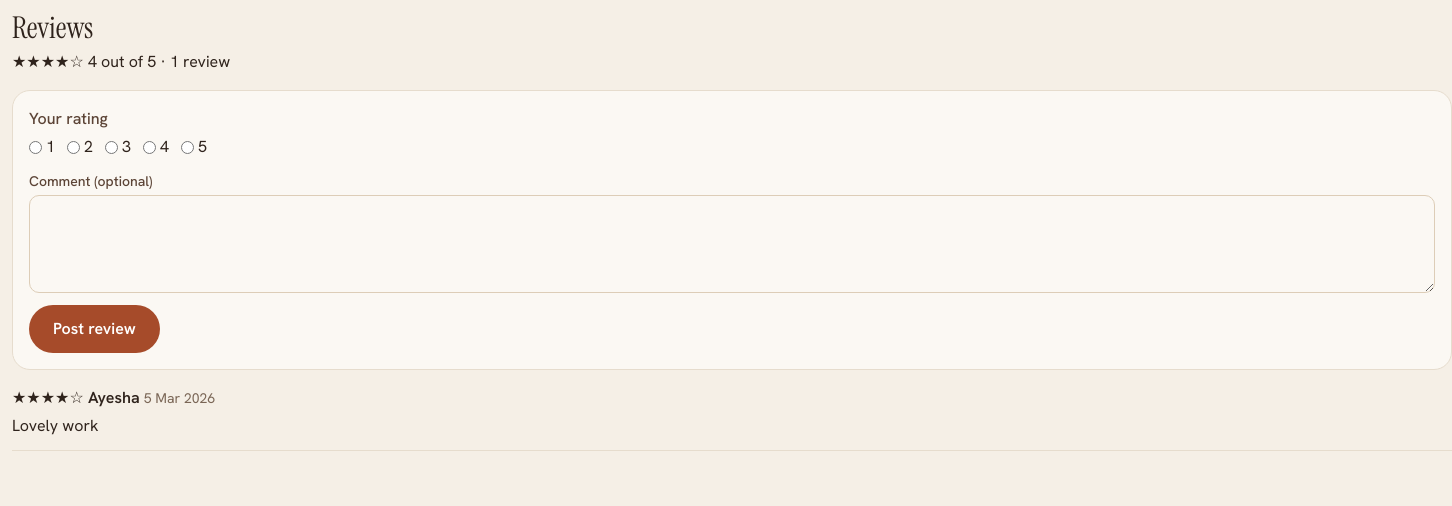
asks for a rating before posting
The image size is (1452, 506).
Click the button "Post review".
click(94, 329)  # box [29, 305, 160, 353]
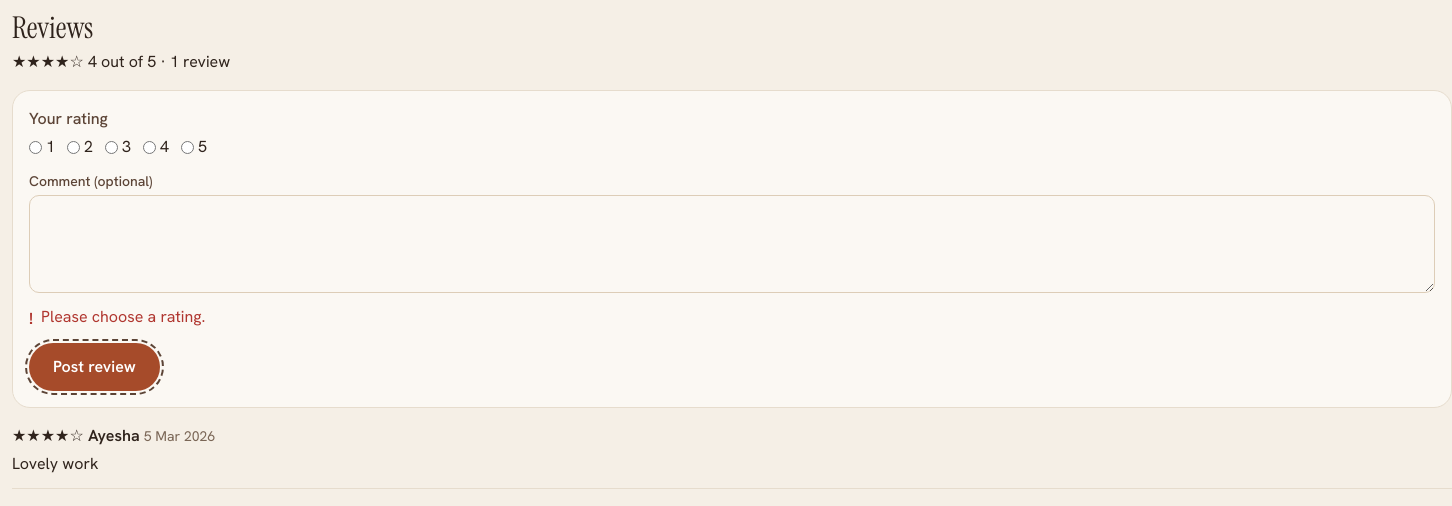
Expected: the message shows "choose a rating", [41, 306, 205, 327]
